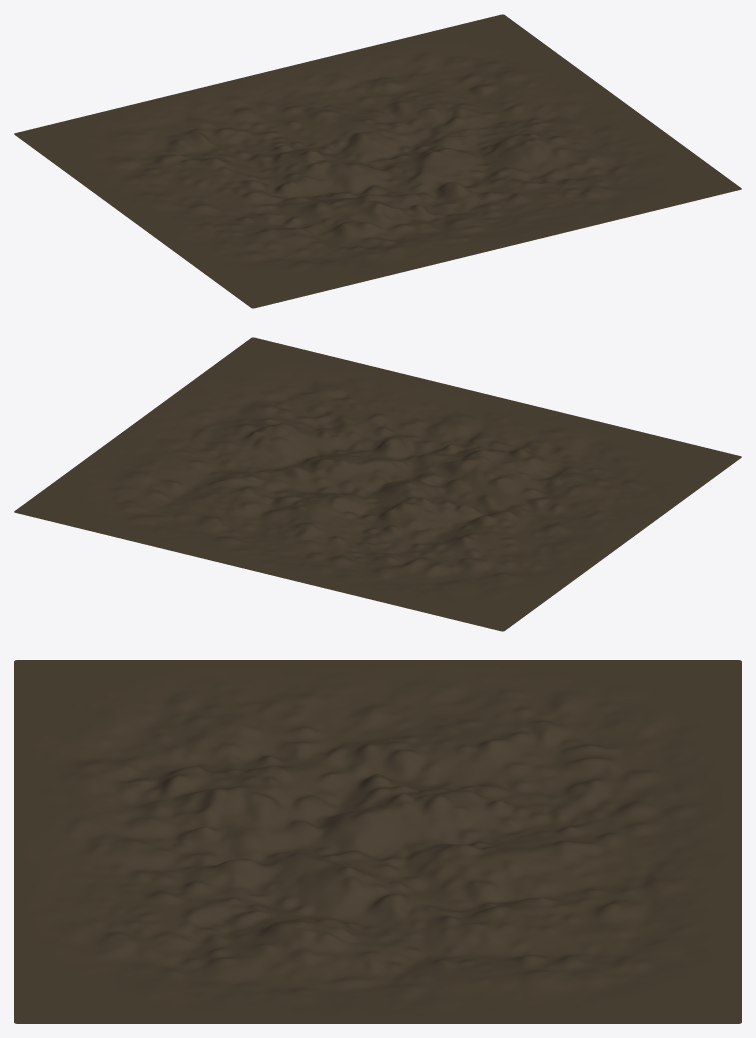
File: SM_Terrain_4.fbx
3 views of the same model, one above another, from view 1: azimuth 30°, elevation 25°; view 2: azimuth 150°, elevation 25°; view 3: azimuth 270°, elevation 25° (orthographic). The views are drawn at different scales.
Parts seen in each view (by area): view 1: Terrain; view 2: Terrain; view 3: Terrain.
Boxes of the visible parts, left/top/right/bottom form: Terrain: left=14, top=14, right=741, bottom=308; Terrain: left=14, top=337, right=741, bottom=631; Terrain: left=14, top=660, right=741, bottom=1023.
Size of the model in its own units: 446000 by 377000 by 14656.
